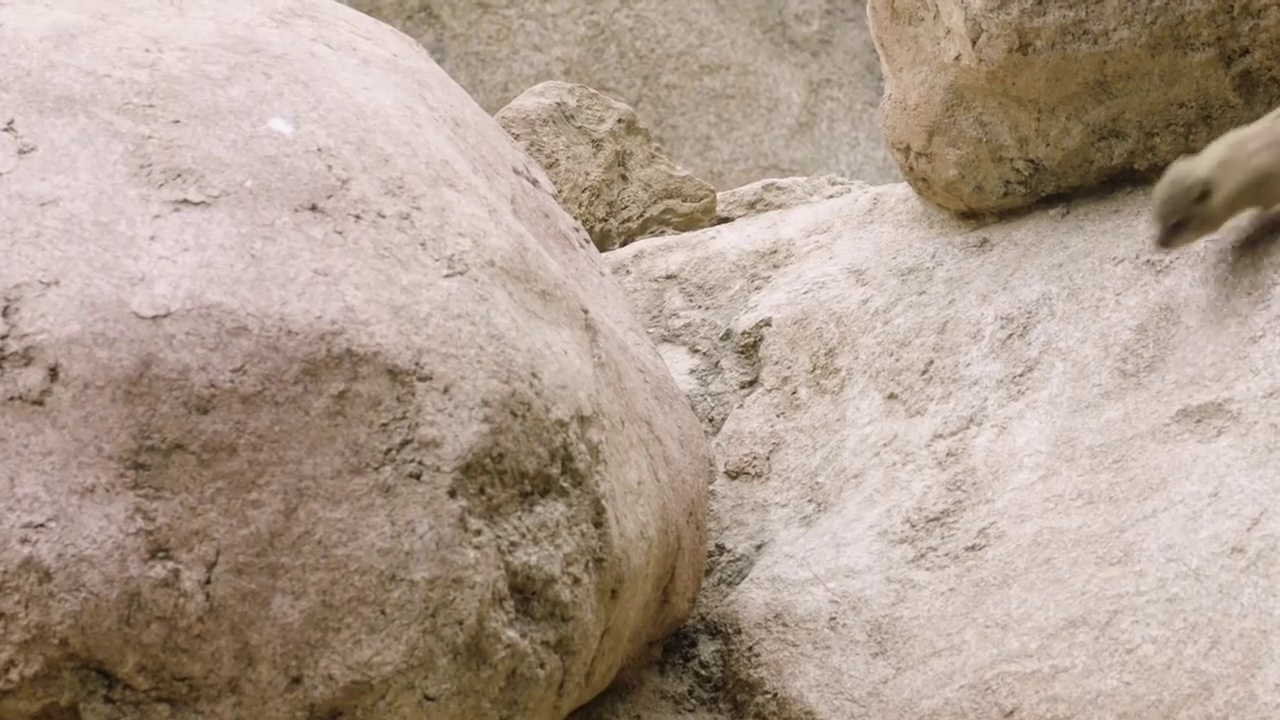Rock Hyrex: (1152, 99, 1280, 254)
